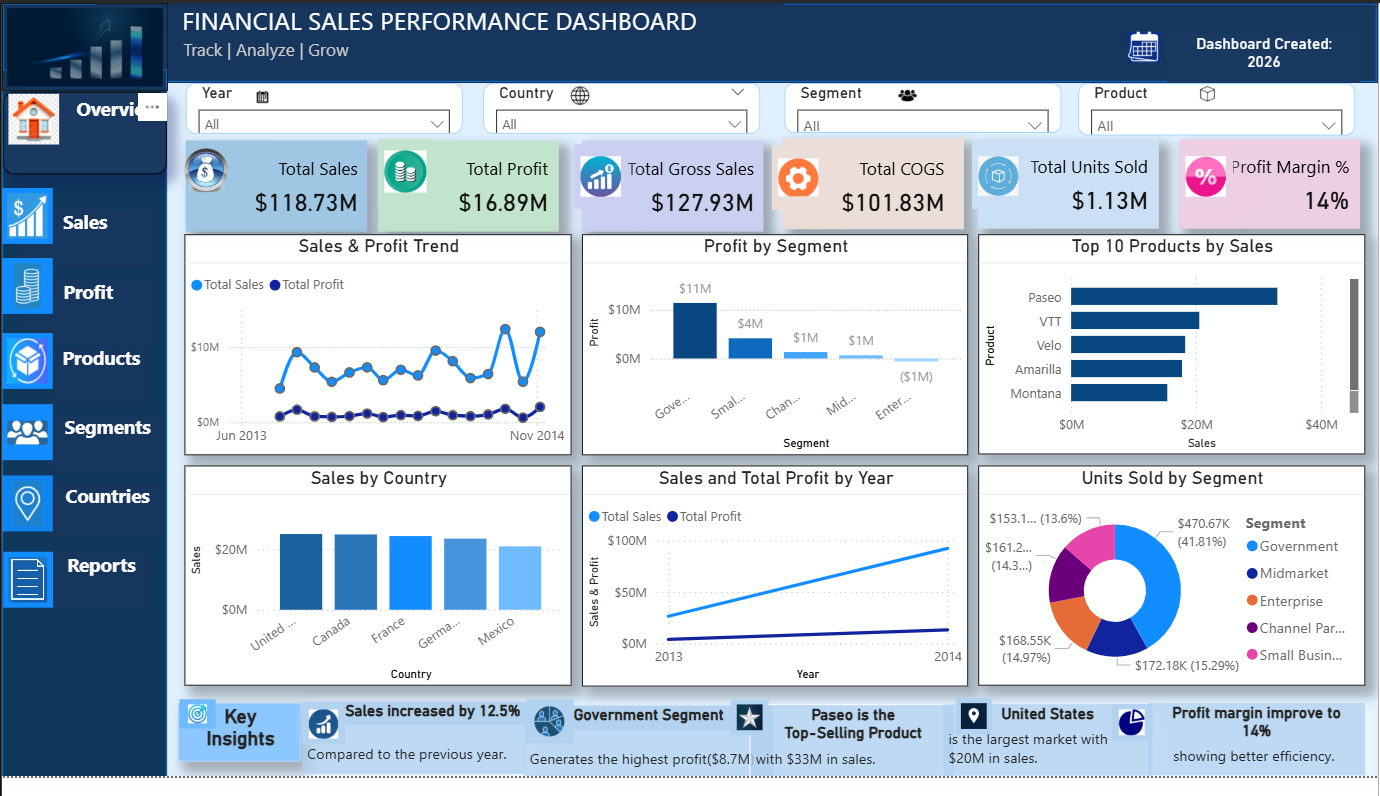

The dashboard page shown, as its layout file describes it:
{"tool":"powerbi","page":{"name":"Page 1","canvas":[1280,720],"ordinal":0},"visuals":[{"type":"shape","box":[0,0,1280,74.6],"z":0},{"type":"cardVisual","fields":{"Data":["Financials.Total Sales"]},"box":[170.4,128.1,169.2,84.6],"z":1000},{"type":"cardVisual","fields":{"Data":["Financials.Total Profit"]},"box":[349.6,128.1,167.9,84.6],"z":2000},{"type":"cardVisual","fields":{"Data":["Financials.Total Gross Sales"]},"box":[539.9,128.1,169.2,84.6],"z":3000},{"type":"cardVisual","fields":{"Data":["Financials.Total COGS"]},"box":[726.5,125.6,167.9,84.6],"z":4000},{"type":"cardVisual","fields":{"Data":["Financials.Total Units Sold"]},"box":[908.1,126.9,167.9,83.3],"z":5000},{"type":"cardVisual","fields":{"Data":["Financials.Profit Margin %"]},"box":[1095.9,126.9,167.9,83.3],"z":6000},{"type":"lineChart","title":" Sales & Profit Trend","fields":{"Category":["Financials.Date"],"Y":["Financials.Total Sales","Financials.Total Profit"]},"box":[170,215.6,360,205.6],"z":7000},{"type":"clusteredColumnChart","title":"Profit by Segment","fields":{"Category":["Financials.Segment"],"Y":["Financials.Total Profit"]},"box":[539.9,215.2,359.5,205.3],"z":8000},{"type":"barChart","title":"Top 10 Products by Sales","fields":{"Category":["Financials.Product"],"Y":["Financials.Total Sales"]},"box":[907.8,215.6,360,205],"z":9000},{"type":"clusteredColumnChart","title":" Sales by Country","fields":{"Category":["Financials.Country"],"Y":["Financials.Total Sales"]},"box":[170,430,360,205],"z":10000},{"type":"lineChart","title":" Sales and Total Profit by Year","fields":{"Y":["Financials.Total Sales","Financials.Total Profit"],"Category":["Financials.Year"]},"box":[539.9,430.4,359.5,205.3],"z":11000},{"type":"donutChart","title":" Units Sold by Segment","fields":{"Category":["Financials.Segment"],"Y":["Financials.Total Units Sold"]},"box":[907.8,430,360,205],"z":12000},{"type":"slicer","fields":{"Values":["DateTable.Year"]},"box":[170.4,74.6,257.5,47.3],"z":13000},{"type":"slicer","fields":{"Values":["Financials.Country"]},"box":[447.8,74.6,257.5,47.3],"z":14000},{"type":"slicer","fields":{"Values":["Financials.Segment"]},"box":[727.7,74.6,257.5,46],"z":15000},{"type":"slicer","fields":{"Values":["Financials.Product"]},"box":[1001.4,74.6,257.5,48.5],"z":16000},{"type":"textbox","title":"FINANCIAL SALES PERFORMANCE  DASHBOARD","box":[87.1,0,640,30],"z":17000},{"type":"textbox","title":"Track  |   Analyze  |  Grow","box":[164.1,30.9,165.4,29.6],"z":18000},{"type":"shape","box":[0,61.1,153.3,658.9],"z":19000},{"type":"textbox","title":"                Key Insights","box":[164.2,650.6,114.4,54.7],"z":20000},{"type":"textbox","title":"         Sales increased by 12.5%","box":[279.1,650,208.1,67.4],"z":21000},{"type":"textbox","title":"Government Segment","box":[485.6,653.3,231.1,66.7],"z":22000},{"type":"textbox","title":"                Paseo is the Top-Selling Product","box":[695.4,651.8,191.6,68.4],"z":23000},{"type":"textbox","title":"United States ","box":[875.6,652.2,194.4,66.7],"z":24000},{"type":"textbox","title":"Profit margin improve to 14%","box":[1066.1,650.6,201.5,67.2],"z":25000},{"type":"textbox","title":"Overview","box":[1.1,82.2,152.2,76.7],"z":26000},{"type":"textbox","title":"Sales","box":[14.9,191.6,124.4,56],"z":27000},{"type":"textbox","title":"Profit","box":[17.4,257.5,125.6,59.7],"z":28000},{"type":"textbox","title":"Products","box":[48.5,318.5,87.1,54.7],"z":29000},{"type":"textbox","title":"Segments","box":[46,383.1,103.2,56],"z":30000},{"type":"textbox","title":"Countries","box":[46,446.6,103.2,52.2],"z":31000},{"type":"textbox","title":"Reports","box":[48.5,510,87.1,53.5],"z":32000},{"type":"image","box":[1.2,61,57.2,94.5],"z":33000},{"type":"image","box":[0,307.3,47.3,52.2],"z":34000},{"type":"image","box":[0,373.2,47.3,52.2],"z":35000},{"type":"image","box":[0,171.7,47.3,52.2],"z":36000},{"type":"image","box":[1.2,510,46,52.2],"z":37000},{"type":"image","box":[226.4,70.9,31.1,32.3],"z":38000},{"type":"image","box":[522.5,69.7,31.1,32.3],"z":39000},{"type":"image","box":[827.2,69.7,31.1,32.3],"z":40000},{"type":"image","box":[1105.9,68.4,31.1,32.3],"z":41000},{"type":"image","box":[0,237.6,47.3,52],"z":42000},{"type":"image","box":[0,439.1,47.3,52.2],"z":43000},{"type":"image","box":[165.6,125.6,50,60],"z":44000},{"type":"image","box":[349.6,126.9,51,59.7],"z":45000},{"type":"image","box":[532.4,131.9,49.8,59.7],"z":46000},{"type":"image","box":[716.5,133.1,49.8,59.7],"z":47000},{"type":"image","box":[901.9,131.9,49.8,59.7],"z":48000},{"type":"image","box":[1095.9,131.9,49.8,59.7],"z":49000},{"type":"image","box":[165.4,648.1,33.6,27.4],"z":50000},{"type":"image","box":[278.6,651.8,40,37],"z":51000},{"type":"image","box":[677.8,648.2,35,33.6],"z":52000},{"type":"image","box":[886.9,646.9,33.6,33.6],"z":53000},{"type":"image","box":[1032.5,651.8,37.3,33.6],"z":54000},{"type":"image","box":[0,0,154.3,82.9],"z":55000},{"type":"image","box":[487.6,648.1,44.8,41.1],"z":56000},{"type":"textbox","title":"Dashboard Created: 2026","box":[1083.5,28.6,180.4,44.8],"z":57000},{"type":"image","box":[1042.4,16.2,41.1,49.8],"z":58000}]}

Visuals, with their boxes in screenshot pixels (x1, y1, x2, y2):
shape: x1=4 y1=4 x2=1365 y2=83
cardVisual - Financials.Total Sales: x1=185 y1=140 x2=365 y2=230
cardVisual - Financials.Total Profit: x1=375 y1=140 x2=554 y2=230
cardVisual - Financials.Total Gross Sales: x1=578 y1=140 x2=758 y2=230
cardVisual - Financials.Total COGS: x1=776 y1=137 x2=955 y2=227
cardVisual - Financials.Total Units Sold: x1=969 y1=139 x2=1148 y2=227
cardVisual - Financials.Profit Margin %: x1=1169 y1=139 x2=1347 y2=227
" Sales & Profit Trend" lineChart: x1=184 y1=233 x2=567 y2=451
"Profit by Segment" clusteredColumnChart: x1=578 y1=232 x2=960 y2=451
"Top 10 Products by Sales" barChart: x1=969 y1=233 x2=1352 y2=451
" Sales by Country" clusteredColumnChart: x1=184 y1=461 x2=567 y2=679
" Sales and Total Profit by Year" lineChart: x1=578 y1=461 x2=960 y2=679
" Units Sold by Segment" donutChart: x1=969 y1=461 x2=1352 y2=679
slicer - DateTable.Year: x1=185 y1=83 x2=459 y2=133
slicer - Financials.Country: x1=480 y1=83 x2=753 y2=133
slicer - Financials.Segment: x1=777 y1=83 x2=1051 y2=132
slicer - Financials.Product: x1=1068 y1=83 x2=1342 y2=134
"FINANCIAL SALES PERFORMANCE  DASHBOARD" textbox: x1=96 y1=4 x2=777 y2=35
"Track  |   Analyze  |  Grow" textbox: x1=178 y1=36 x2=354 y2=68
shape: x1=4 y1=69 x2=167 y2=769
"                Key Insights" textbox: x1=178 y1=695 x2=300 y2=753
"         Sales increased by 12.5%" textbox: x1=300 y1=695 x2=522 y2=766
"Government Segment" textbox: x1=520 y1=698 x2=766 y2=769
"                Paseo is the Top-Selling Product" textbox: x1=743 y1=697 x2=947 y2=769
"United States " textbox: x1=935 y1=697 x2=1141 y2=768
"Profit margin improve to 14%" textbox: x1=1137 y1=695 x2=1351 y2=767
"Overview" textbox: x1=5 y1=91 x2=167 y2=173
"Sales" textbox: x1=19 y1=207 x2=152 y2=267
"Profit" textbox: x1=22 y1=277 x2=156 y2=341
"Products" textbox: x1=55 y1=342 x2=148 y2=400
"Segments" textbox: x1=52 y1=411 x2=162 y2=470
"Countries" textbox: x1=52 y1=478 x2=162 y2=534
"Reports" textbox: x1=55 y1=546 x2=148 y2=603
image: x1=5 y1=68 x2=66 y2=169
image: x1=4 y1=330 x2=54 y2=386
image: x1=4 y1=400 x2=54 y2=456
image: x1=4 y1=186 x2=54 y2=242
image: x1=5 y1=546 x2=54 y2=601
image: x1=244 y1=79 x2=277 y2=113
image: x1=559 y1=78 x2=592 y2=112
image: x1=883 y1=78 x2=916 y2=112
image: x1=1179 y1=76 x2=1212 y2=111
image: x1=4 y1=256 x2=54 y2=311
image: x1=4 y1=470 x2=54 y2=526
image: x1=180 y1=137 x2=233 y2=201
image: x1=375 y1=139 x2=430 y2=202
image: x1=570 y1=144 x2=623 y2=207
image: x1=765 y1=145 x2=818 y2=209
image: x1=963 y1=144 x2=1015 y2=207
image: x1=1169 y1=144 x2=1222 y2=207
image: x1=179 y1=693 x2=215 y2=722
image: x1=300 y1=697 x2=342 y2=736
image: x1=724 y1=693 x2=761 y2=728
image: x1=947 y1=691 x2=982 y2=727
image: x1=1101 y1=697 x2=1141 y2=732
image: x1=4 y1=4 x2=168 y2=92
image: x1=522 y1=693 x2=570 y2=736
"Dashboard Created: 2026" textbox: x1=1156 y1=34 x2=1347 y2=82
image: x1=1112 y1=21 x2=1156 y2=74
